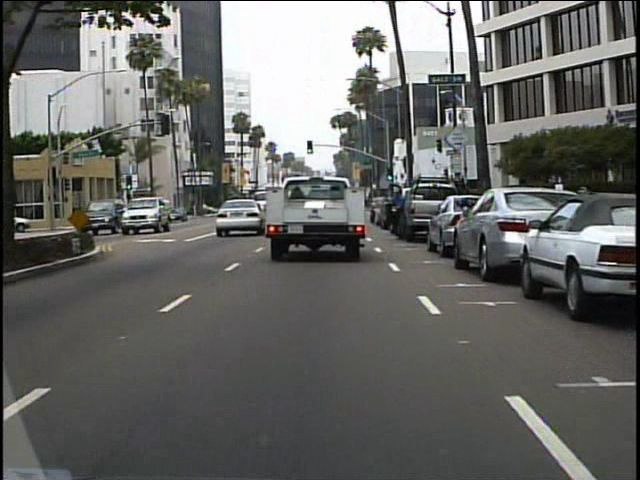person: (385, 184, 407, 237)
